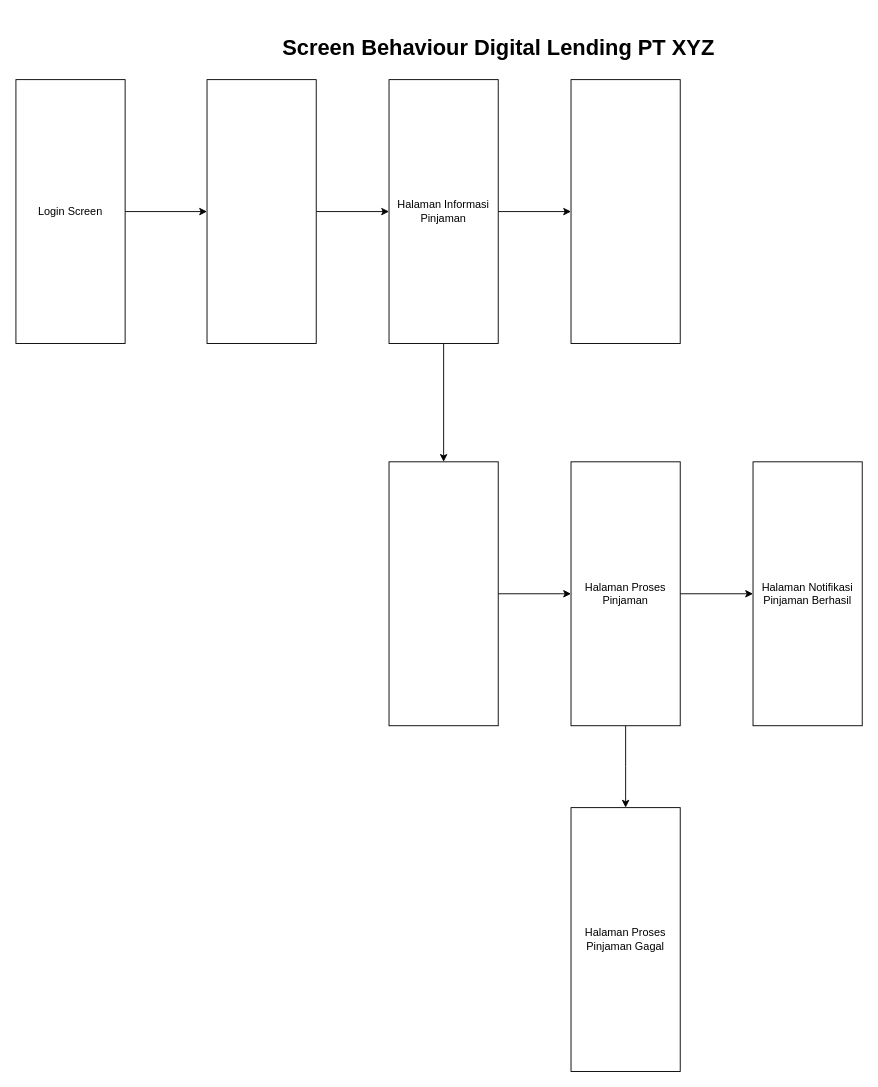
Some shapes in this 878 by 1087 pixel diagram are drawn without their labels. The shapes that lost their labels are listed below. From the top down, each one's centre as x and y in pixels, then its label:
(261,211): DashBoard
(625,211): Halaman Pembayaran Pinjaman
(443,593): Halaman Request Pinjaman
